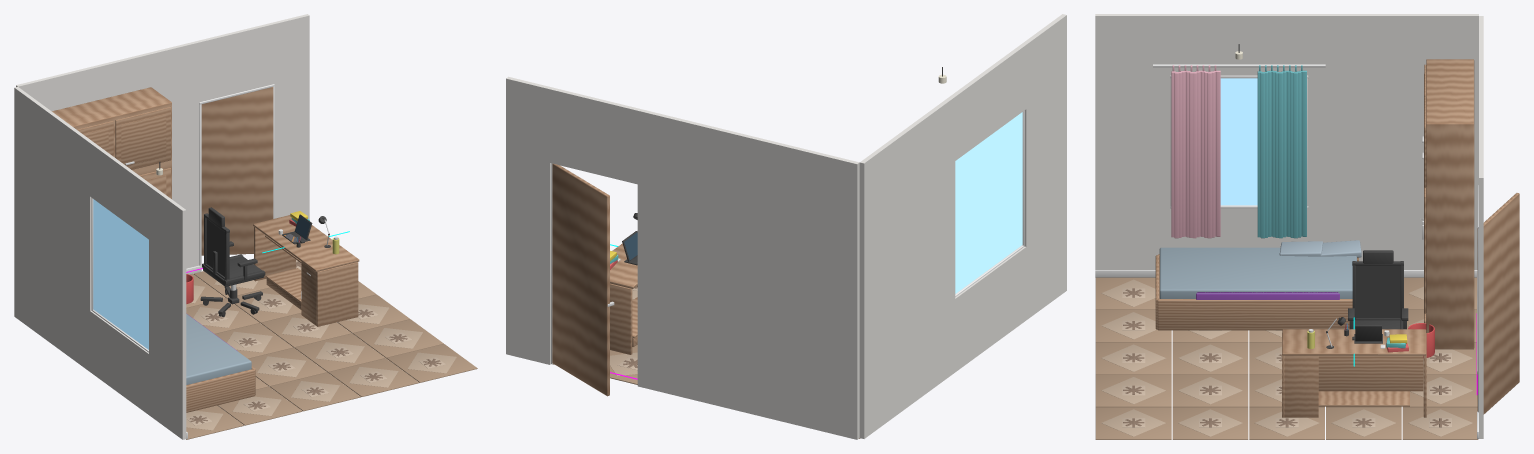
Rendered from room_model.fbx.
The picture shows the model from 3 angles, left to right: view 1: azimuth 30°, elevation 25°; view 2: azimuth 150°, elevation 25°; view 3: azimuth 270°, elevation 25°; orthographic projection. The views are drawn at different scales.
Visible parts, largest first — view 1: Wall_Left_Post2, Wall_Back_Post1, DoorPanel, Wall_Left_Post1, Wall_Back_Post2, Window_Glass, Wall_Back_AboveDoor, Wall_Left_UnderWindow, Wall_Left_AboveWindow, Wardrobe_Body, Mattress, Desk_Panel_Right (+34 smaller); view 2: Wall_Back_Post1, Wall_Left_Post2, Wall_Back_Post2, Wall_Left_Post1, DoorPanel, Window_Glass, Wall_Back_AboveDoor, Wall_Left_UnderWindow, Wall_Left_AboveWindow, Desk_Panel_Left, Desk_Top; view 3: Wall_Left_Post2, Wall_Left_Post1, Wardrobe_Body, Mattress, Wall_Left_AboveWindow, DoorPanel, BedFrame_SideR, Window_Glass, Desk_Modesty_Back, Desk_Top, Wall_Left_UnderWindow, Chair_Back_Mesh (+70 smaller).
Part boxes in pixels (x1,y1,x2,y2): Wall_Left_Post2: (14, 87, 93, 371); Wall_Back_Post1: (16, 41, 200, 268); DoorPanel: (201, 87, 273, 255); Wall_Left_Post1: (149, 185, 186, 439); Wall_Back_Post2: (271, 14, 309, 219); Window_Glass: (93, 199, 148, 349); Wall_Back_AboveDoor: (198, 23, 273, 101); Wall_Left_UnderWindow: (90, 311, 148, 414); Wall_Left_AboveWindow: (90, 142, 152, 239); Wardrobe_Body: (52, 87, 171, 198); Mattress: (186, 314, 251, 384); Desk_Panel_Right: (316, 262, 358, 326); Wall_Back_Post1: (637, 109, 859, 439); Wall_Left_Post2: (859, 95, 955, 438); Wall_Back_Post2: (506, 76, 551, 364); Wall_Left_Post1: (1022, 14, 1066, 319); DoorPanel: (552, 163, 609, 396); Window_Glass: (955, 112, 1022, 293); Wall_Back_AboveDoor: (550, 87, 639, 183); Wall_Left_UnderWindow: (955, 246, 1026, 371); Wall_Left_AboveWindow: (951, 43, 1026, 160); Desk_Panel_Left: (610, 283, 632, 354); Desk_Top: (610, 243, 637, 288); Wall_Left_Post2: (1306, 14, 1478, 269); Wall_Left_Post1: (1095, 14, 1171, 269); Wardrobe_Body: (1426, 59, 1474, 349); Mattress: (1159, 247, 1356, 298); Wall_Left_AboveWindow: (1172, 14, 1306, 75); DoorPanel: (1477, 193, 1519, 414); BedFrame_SideR: (1157, 299, 1352, 330); Window_Glass: (1220, 78, 1257, 205); Desk_Modesty_Back: (1318, 355, 1423, 391); Desk_Top: (1282, 329, 1426, 355); Wall_Left_UnderWindow: (1172, 208, 1306, 247); Chair_Back_Mesh: (1356, 266, 1400, 318).
Size of the model in its own units: 405 by 302 by 442.
Materials: 80 (1 with a texture image).
